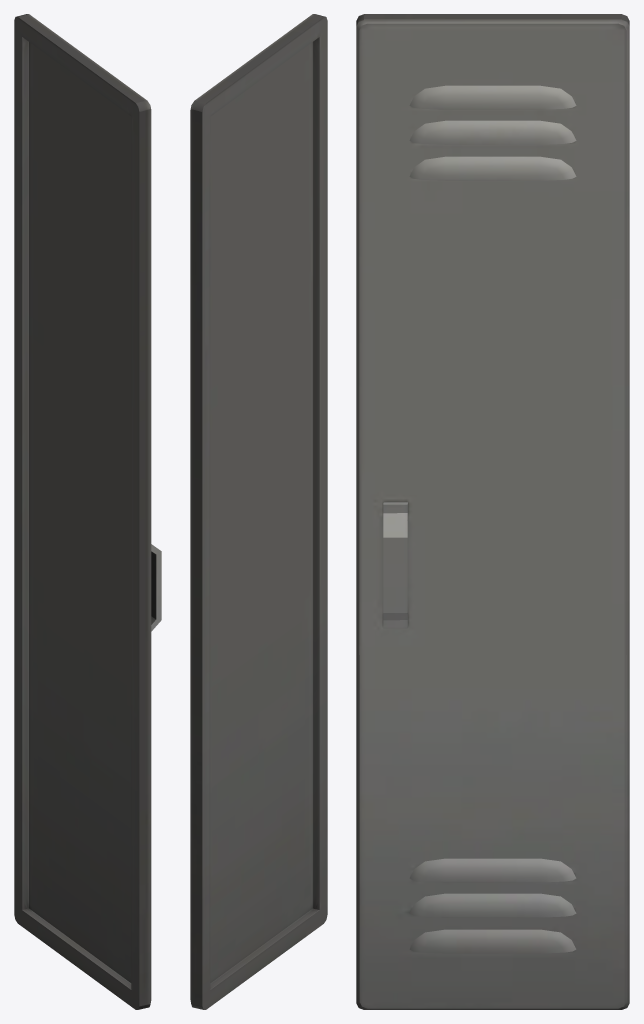
3 renders of one model, left to right at view 1: azimuth 30°, elevation 25°; view 2: azimuth 150°, elevation 25°; view 3: azimuth 270°, elevation 25°, orthographic. The views are drawn at different scales.
Visible parts, largest first — view 1: body0_model0_lod0_mesh0; view 2: body0_model0_lod0_mesh0; view 3: body0_model0_lod0_mesh0.
Part boxes in pixels (bbox=[...]): body0_model0_lod0_mesh0: bbox=[14, 14, 161, 1009]; body0_model0_lod0_mesh0: bbox=[190, 14, 327, 1009]; body0_model0_lod0_mesh0: bbox=[356, 14, 629, 1009].
Bounding box in the file's own units: 3.75 × 93.96 × 23.49.
1 material, 1 textured.
